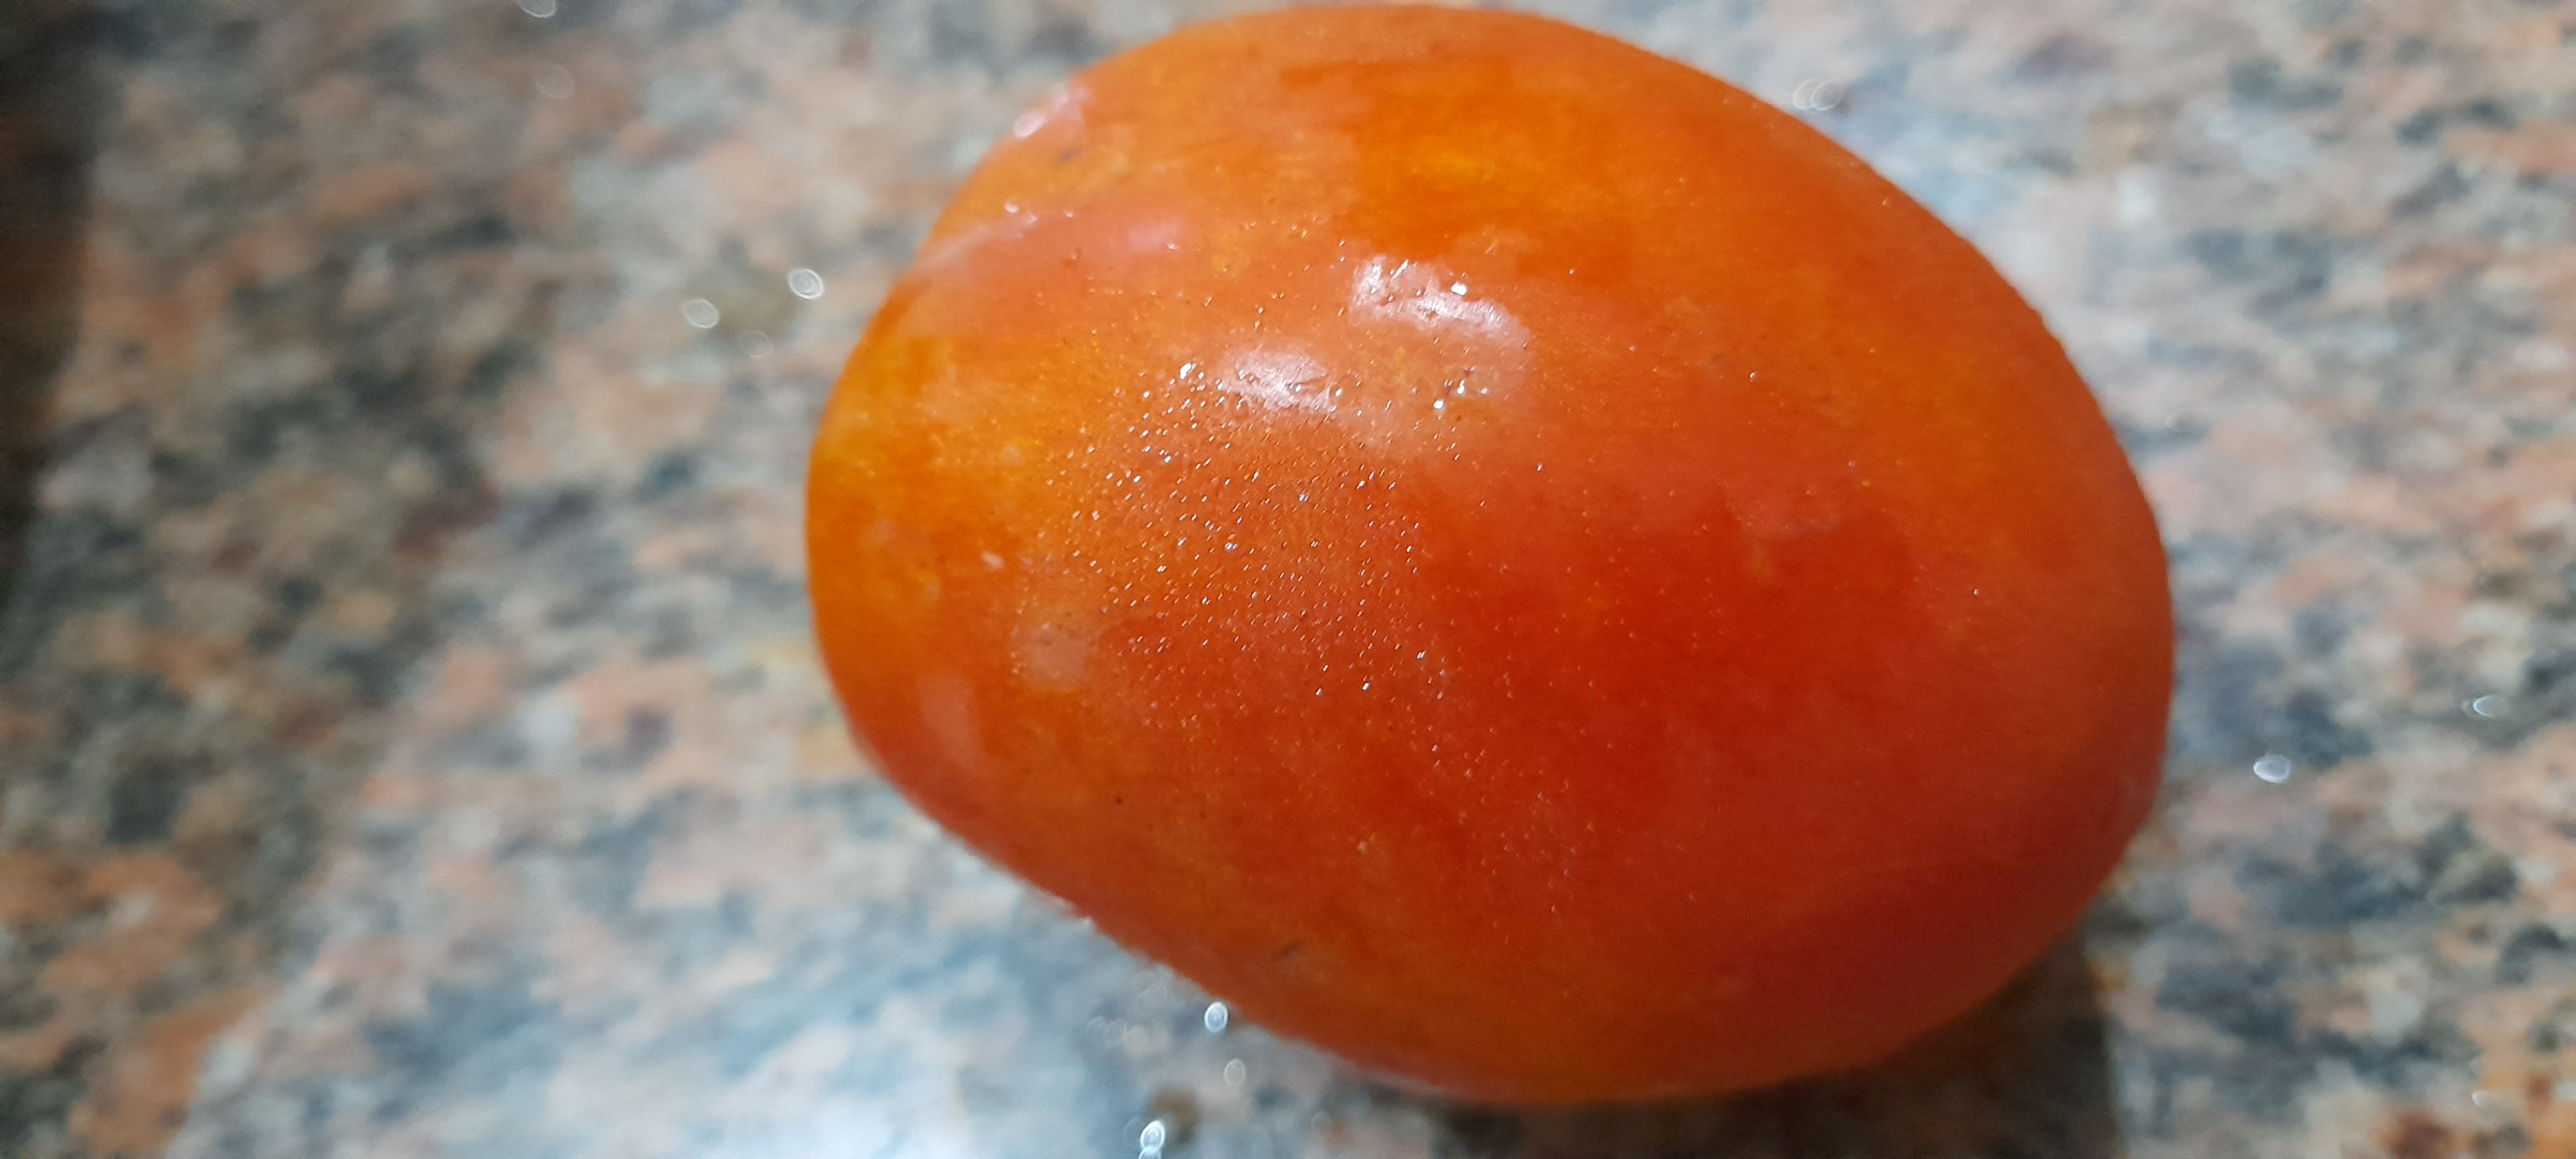tomato: (802, 18, 2267, 1141)
